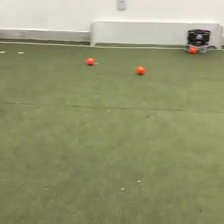ball: (134, 64, 145, 75), (85, 55, 95, 66), (189, 45, 197, 55)
goal: (88, 17, 224, 51)
robot: (184, 27, 212, 56)
